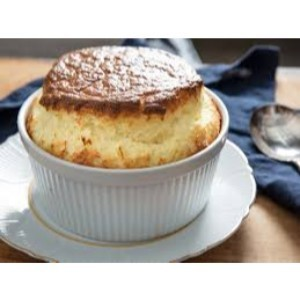cheese_brain food: (57, 72, 181, 153)
